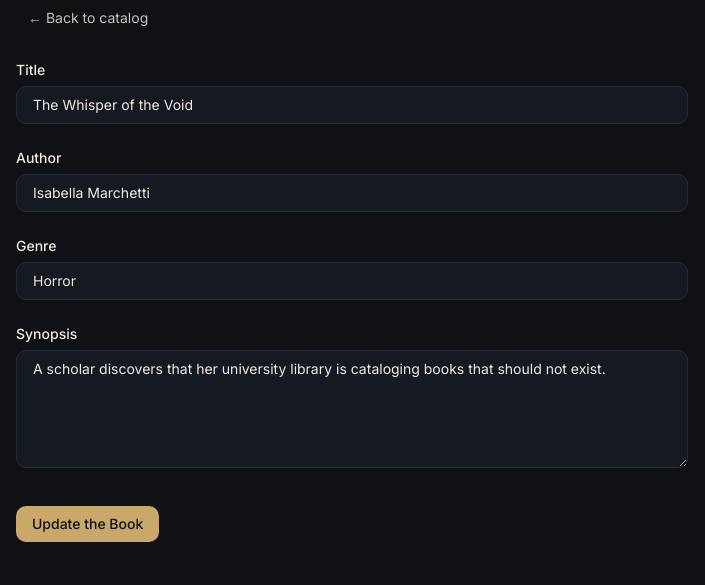
BookForm in edit mode › shows field-level API errors under the respective fields
Click the button "Update the Book" at [88, 524], box x1=16 y1=506 x2=159 y2=542
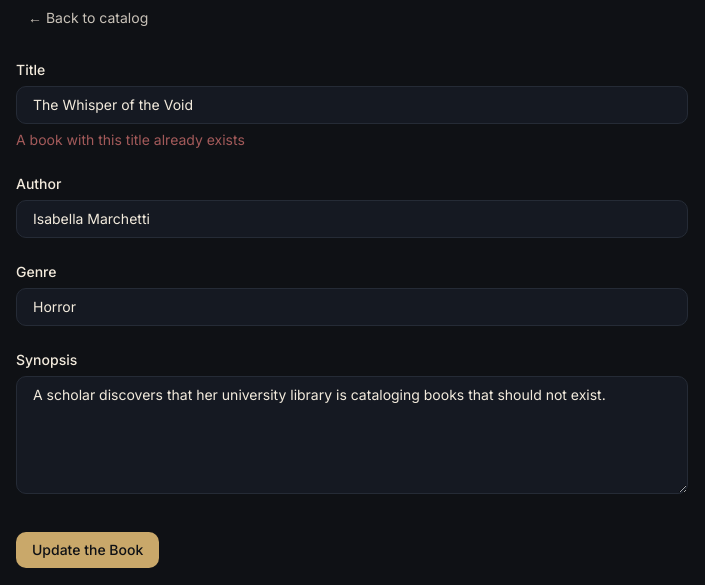
expect the text "A book with this title already exists" is shown: met, box x1=16 y1=131 x2=245 y2=148
